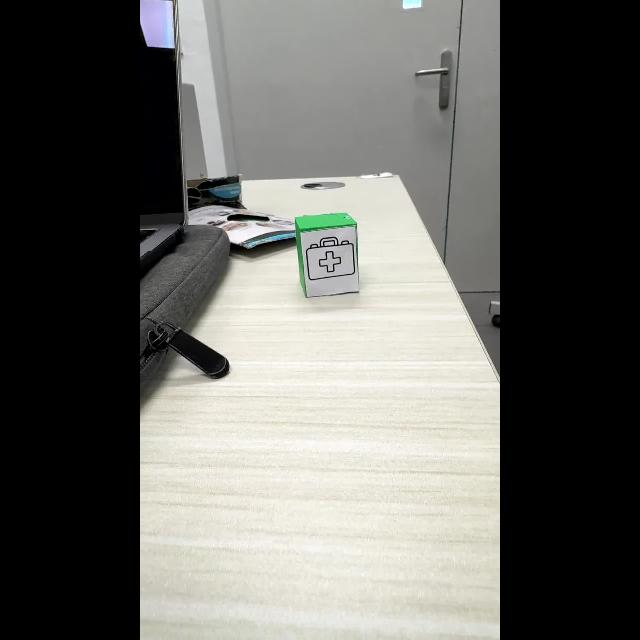Medkit: (307, 237, 354, 279)
